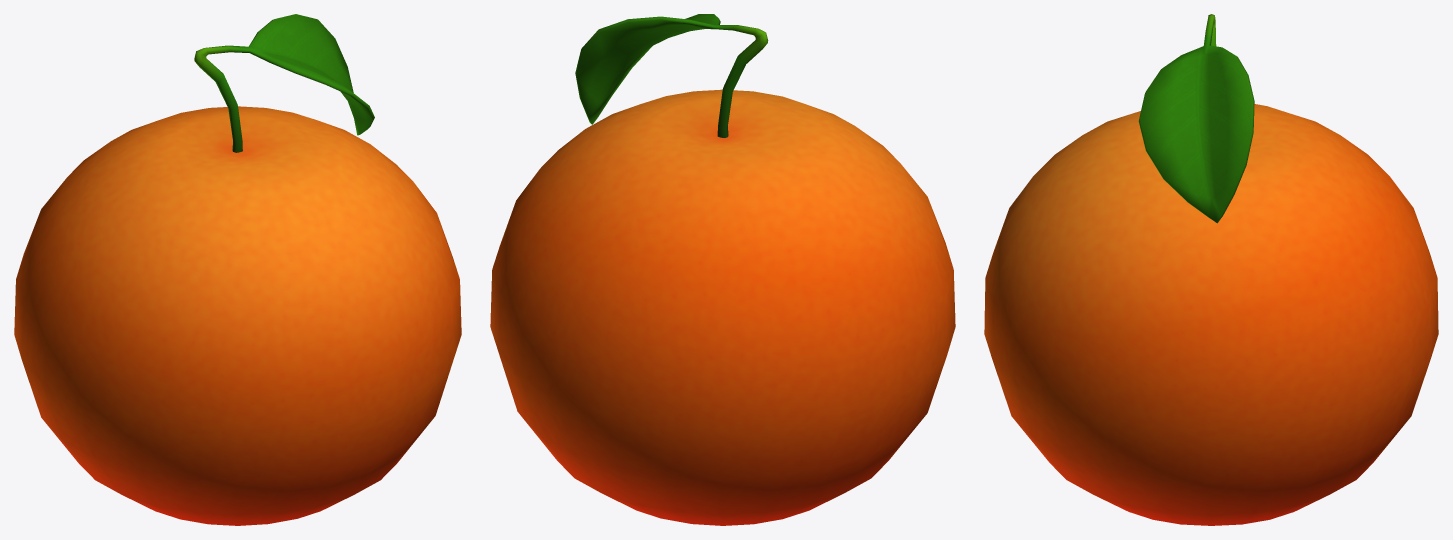
The model's file is orange.glb.
The picture shows the model from 3 angles, left to right: view 1: azimuth 30°, elevation 25°; view 2: azimuth 150°, elevation 25°; view 3: azimuth 270°, elevation 25°; orthographic projection. The views are drawn at different scales.
Visible parts, largest first — view 1: Orange; view 2: Orange; view 3: Orange.
Part boxes in pixels (<box>): Orange: <box>14,14,461,525</box>; Orange: <box>490,14,955,525</box>; Orange: <box>984,14,1438,525</box>.
Bounding box in the file's own units: 79.21 × 89.02 × 79.21.
1 material, 1 textured.
